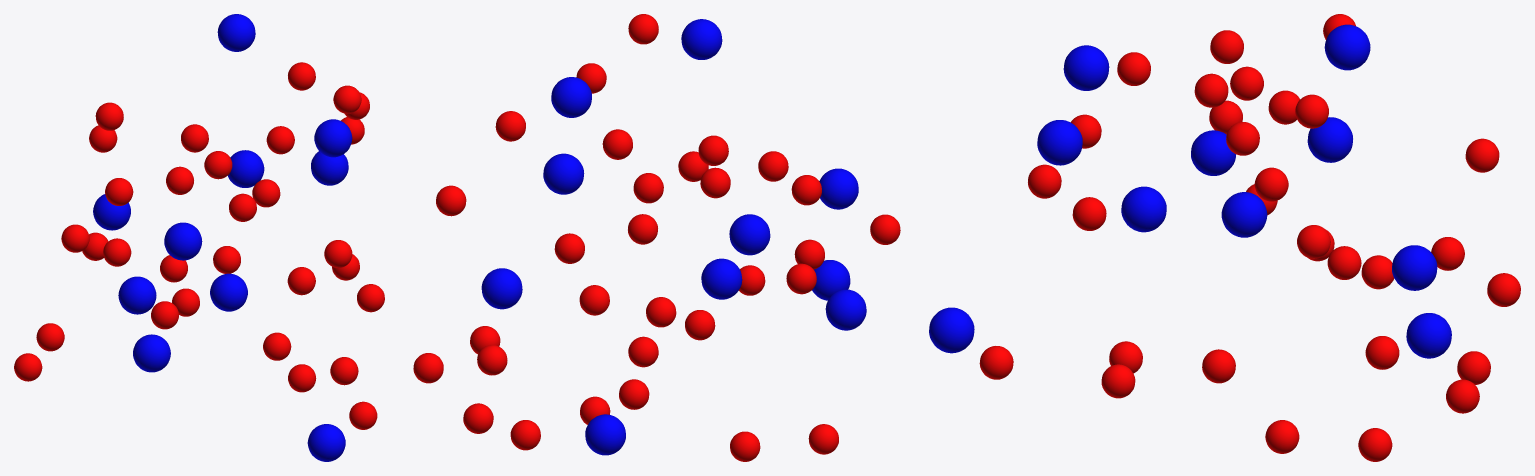
File: scatterball.obj
3 renders of one model, left to right at view 1: azimuth 30°, elevation 25°; view 2: azimuth 150°, elevation 25°; view 3: azimuth 270°, elevation 25°, orthographic. The views are drawn at different scales.
Visible parts, largest first — view 1: pSphere38, pSphere23, pSphere20, pSphere21, pSphere15, pSphere6, pSphere30, pSphere35, pSphere3, pSphere33, pSphere34, pSphere16 (+26 smaller); view 2: pSphere20, pSphere21, pSphere35, pSphere33, pSphere3, pSphere38, pSphere6, pSphere23, pSphere15, pSphere30, pSphere25, pSphere7 (+28 smaller); view 3: pSphere6, pSphere38, pSphere30, pSphere15, pSphere21, pSphere3, pSphere23, pSphere35, pSphere33, pSphere20, pSphere17, pSphere39 (+25 smaller).
Boxes of the visible parts, x1,y1,x2,y2 form: pSphere38: (118,276,156,314); pSphere23: (314,119,352,157); pSphere20: (164,222,202,260); pSphere21: (133,334,170,372); pSphere15: (210,273,247,311); pSphere6: (217,14,255,51); pSphere30: (307,424,345,461); pSphere35: (227,150,264,187); pSphere3: (311,151,348,185); pSphere33: (93,194,130,230); pSphere34: (61,224,89,252); pSphere16: (333,85,361,113); pSphere20: (729,214,770,255); pSphere21: (825,289,866,330); pSphere35: (481,268,522,309); pSphere33: (701,258,742,299); pSphere3: (543,153,584,194); pSphere38: (585,414,625,455); pSphere6: (551,77,591,117); pSphere23: (681,19,722,59); pSphere15: (819,168,858,209); pSphere30: (812,260,850,300); pSphere25: (628,336,658,367); pSphere7: (700,167,730,198); pSphere6: (1324,24,1370,70); pSphere38: (1406,313,1451,358); pSphere30: (929,307,974,353); pSphere15: (1037,120,1082,165); pSphere21: (1121,186,1166,232); pSphere3: (1221,192,1267,237); pSphere23: (1063,45,1109,90); pSphere35: (1392,245,1437,290); pSphere33: (1307,117,1352,162); pSphere20: (1191,130,1235,175); pSphere17: (1101,364,1135,398); pSphere39: (1465,138,1499,172).
Size of the model in its own units: 25.96 by 20.72 by 30.21.
